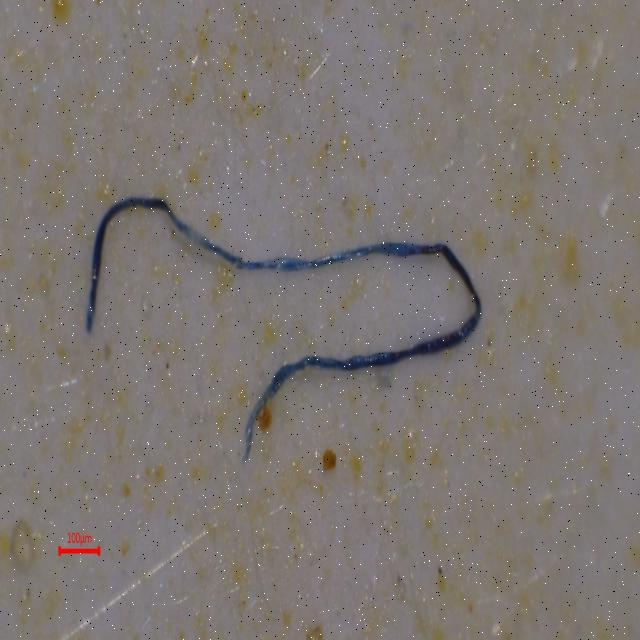Fibre: (86, 195, 486, 470)
